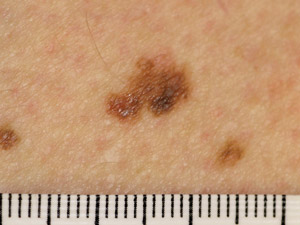Melanoma: (105, 56, 191, 124)
